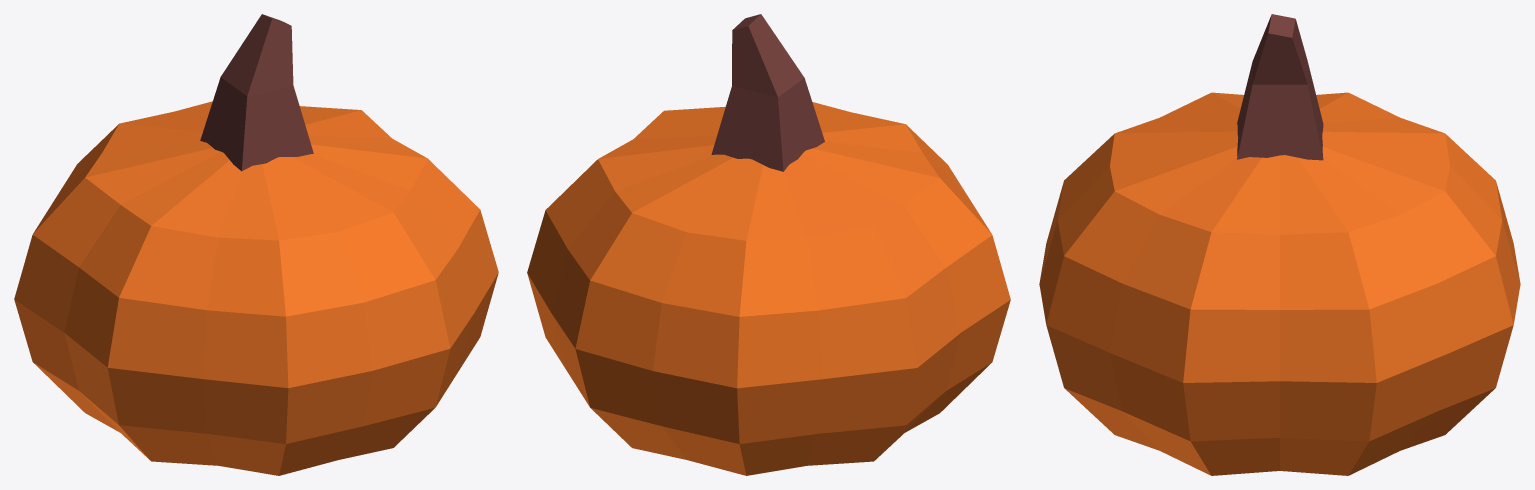
The model's file is pumpkin.fbx.
3 views of the same model, side by side, from view 1: azimuth 30°, elevation 25°; view 2: azimuth 150°, elevation 25°; view 3: azimuth 270°, elevation 25° (orthographic). The views are drawn at different scales.
Visible parts, largest first — view 1: pumpkin_01; view 2: pumpkin_01; view 3: pumpkin_01.
Part boxes in pixels (<box>): pumpkin_01: <box>14,14,498,475</box>; pumpkin_01: <box>527,14,1010,475</box>; pumpkin_01: <box>1039,14,1520,475</box>.
Bounding box in the file's own units: 44.6 × 42.66 × 45.91.
